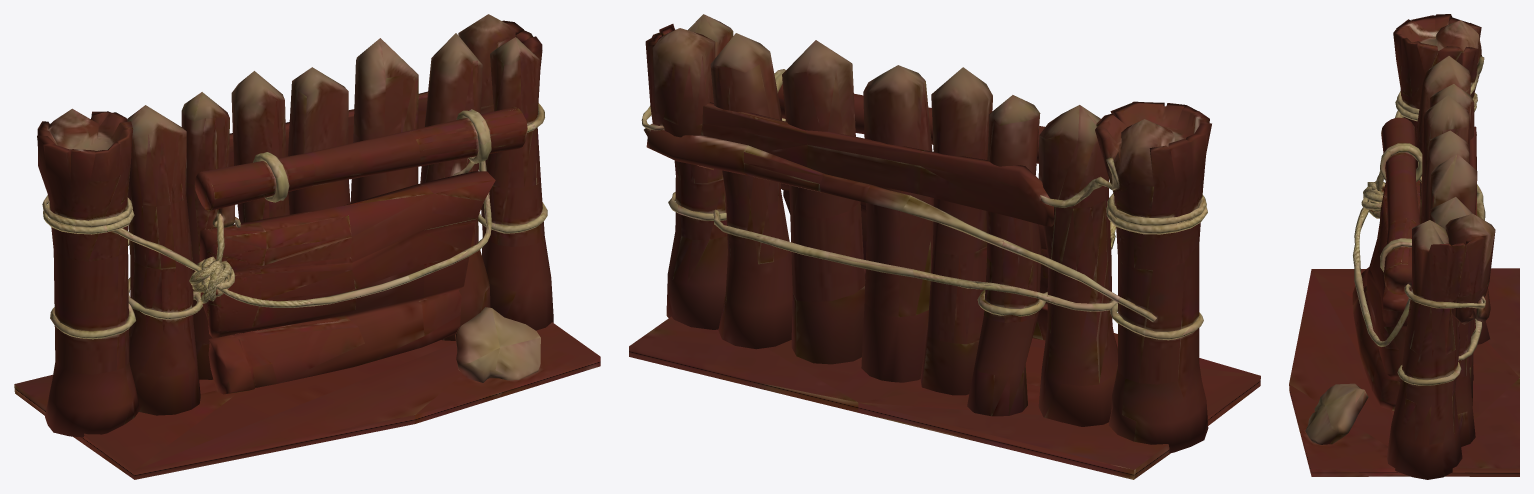
File: palisade.glb
3 renders of one model, left to right at view 1: azimuth 30°, elevation 25°; view 2: azimuth 150°, elevation 25°; view 3: azimuth 270°, elevation 25°, orthographic. The views are drawn at different scales.
Bounding box in the file's own units: 0.9492 × 0.5518 × 0.4297.
1 material, 1 textured.
